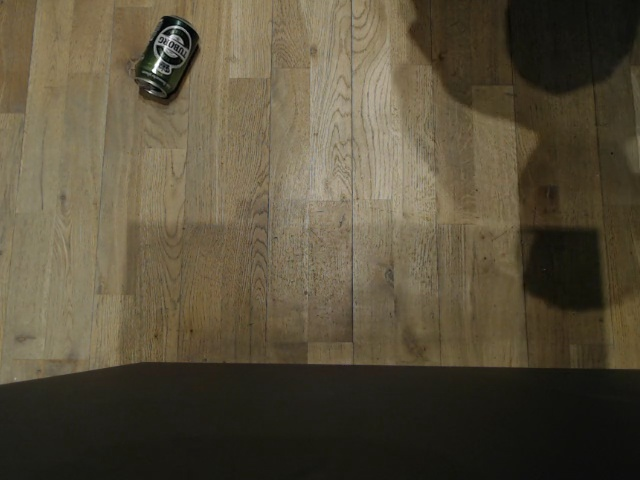beer: (131, 12, 201, 102)
